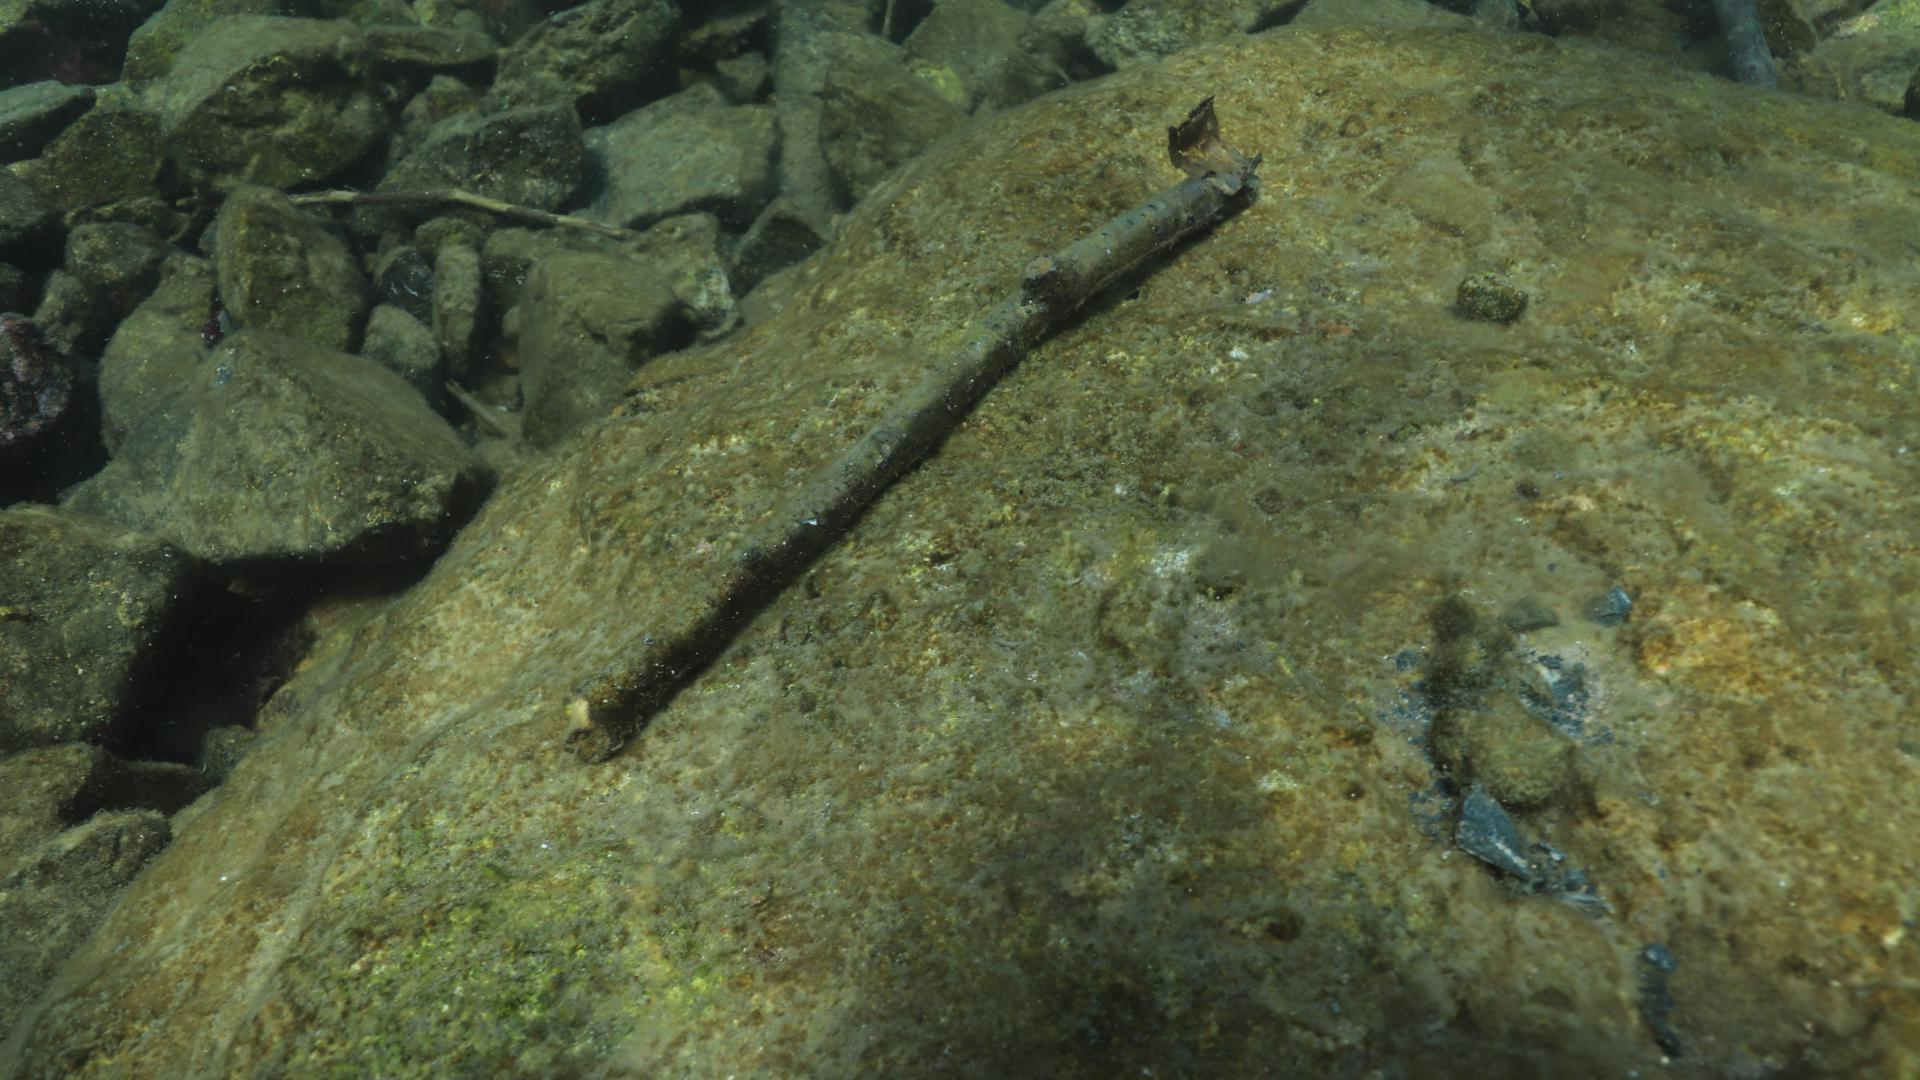wood: (559, 167, 1257, 760)
